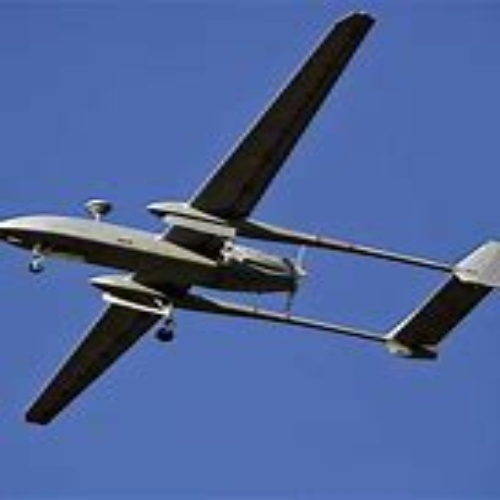uav296: (1, 13, 500, 425)
